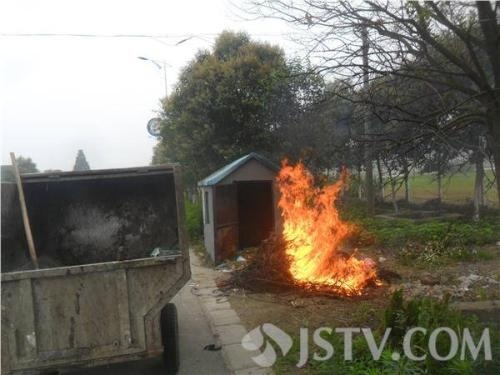fire: (274, 153, 383, 293)
